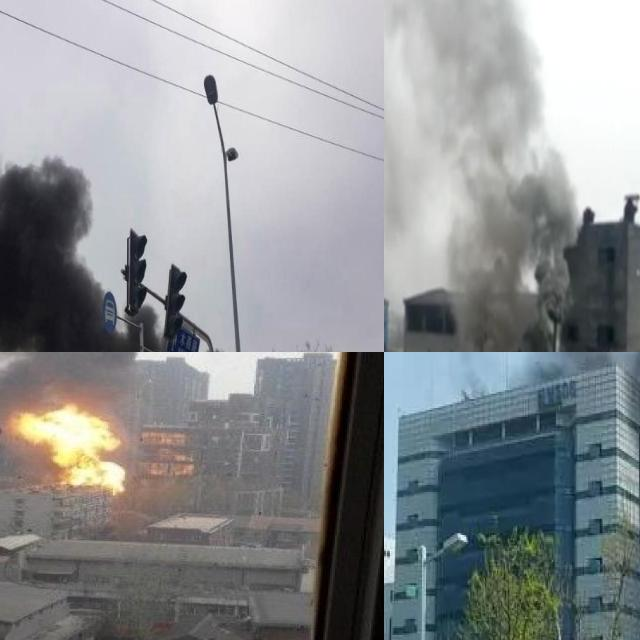fire: (10, 404, 125, 490)
smoke: (0, 0, 221, 352), (384, 0, 575, 352), (464, 352, 640, 523)
